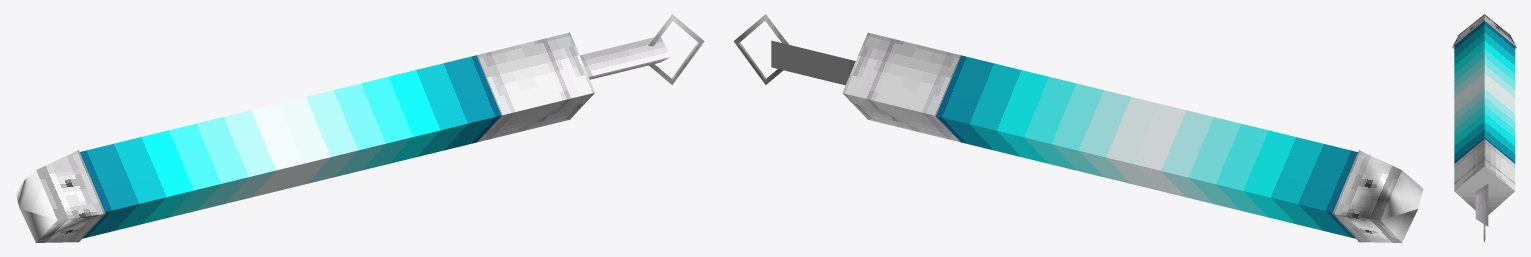
Rendered from eqp_tool_glow_rod_l3.fbx.
3 views of the same model, side by side, from view 1: azimuth 30°, elevation 25°; view 2: azimuth 150°, elevation 25°; view 3: azimuth 270°, elevation 25° (orthographic). The views are drawn at different scales.
Visible parts, largest first — view 1: mesh_node; view 2: mesh_node; view 3: mesh_node.
Boxes of the visible parts, x1,y1,x2,y2 form: mesh_node: [14, 14, 704, 242]; mesh_node: [733, 14, 1423, 242]; mesh_node: [1452, 14, 1516, 242].
Size of the model in its own units: 0.4033 by 0.0519 by 0.0548.
